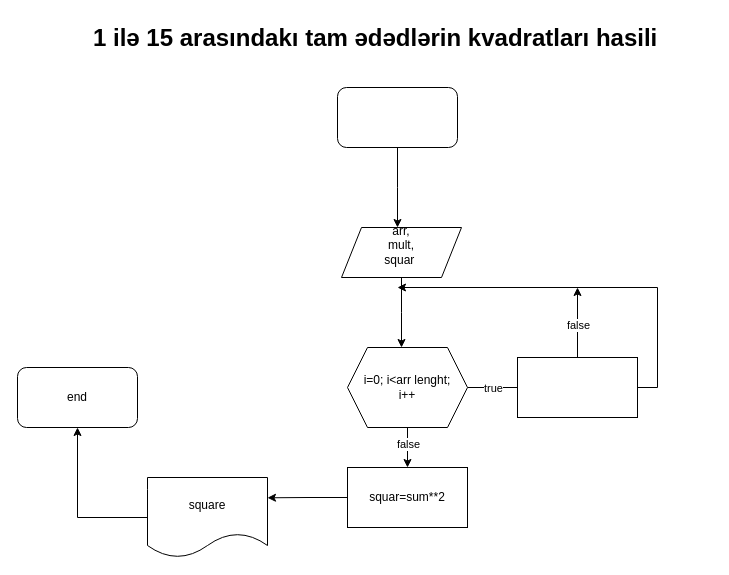
The diagram is 729 pixels wide and 575 high, and some of its shapes have lost their labels. Here are the shapes that lost their labels. From the top down, the centre of each, then its label:
the point at 397,117: start
the point at 577,387: mult*=arr[i]
